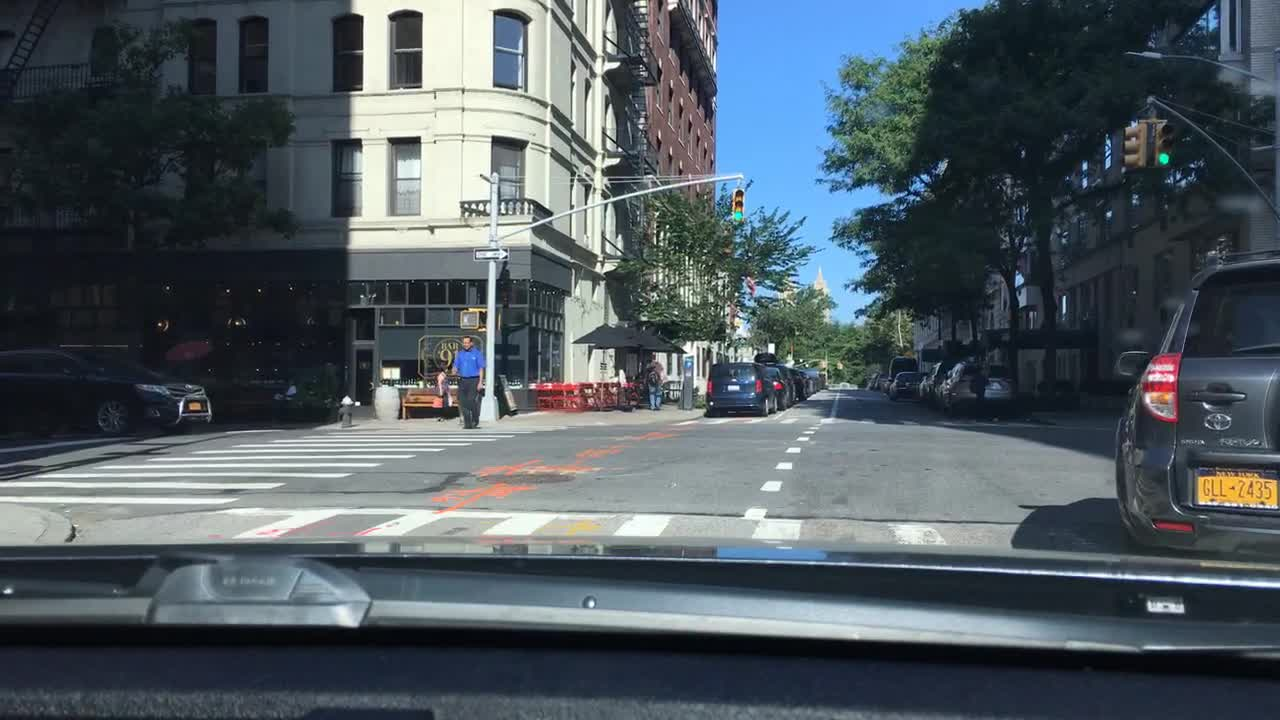car: (1109, 233, 1277, 563), (0, 346, 213, 435), (935, 356, 1018, 417), (703, 359, 779, 416), (915, 361, 955, 404), (885, 371, 920, 403), (771, 361, 796, 403), (789, 366, 811, 399), (806, 370, 823, 390), (867, 371, 882, 390)
person: (456, 335, 485, 431), (968, 341, 1000, 421), (646, 359, 666, 409)
traffic light: (1120, 121, 1147, 172), (1159, 122, 1175, 169), (456, 310, 481, 329), (733, 188, 746, 219)
traffic sign: (474, 247, 506, 262)
truck: (880, 354, 915, 390)
